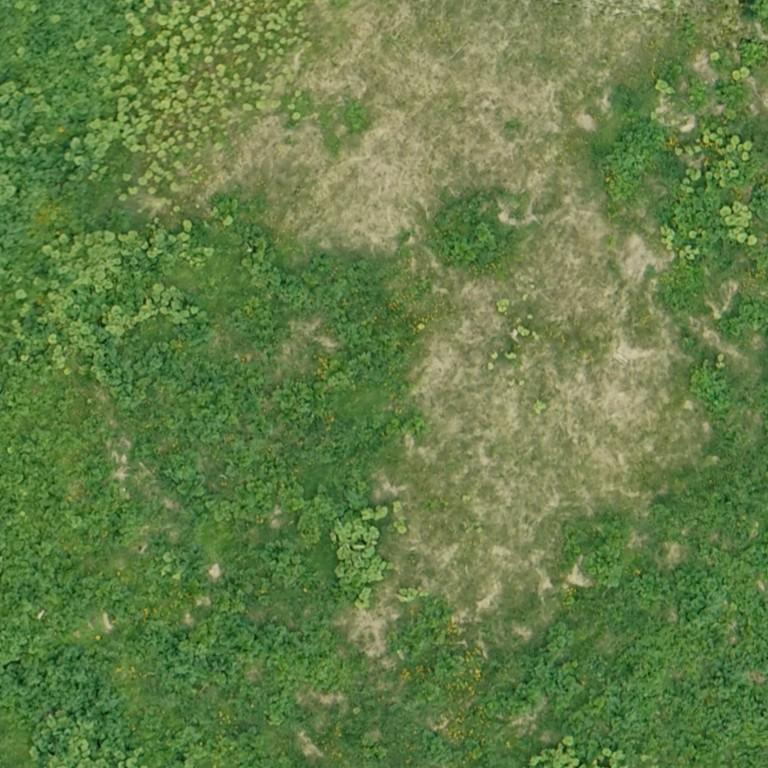hogweed: (0, 366, 354, 761), (486, 444, 767, 767), (106, 340, 304, 529), (273, 310, 422, 548), (0, 0, 124, 127), (255, 254, 379, 312), (435, 196, 509, 266), (602, 121, 674, 186), (143, 534, 209, 589), (21, 154, 87, 205), (164, 449, 214, 514), (230, 308, 276, 356), (723, 295, 767, 337), (84, 208, 127, 231), (172, 323, 214, 346), (433, 648, 463, 680), (422, 731, 452, 759)
